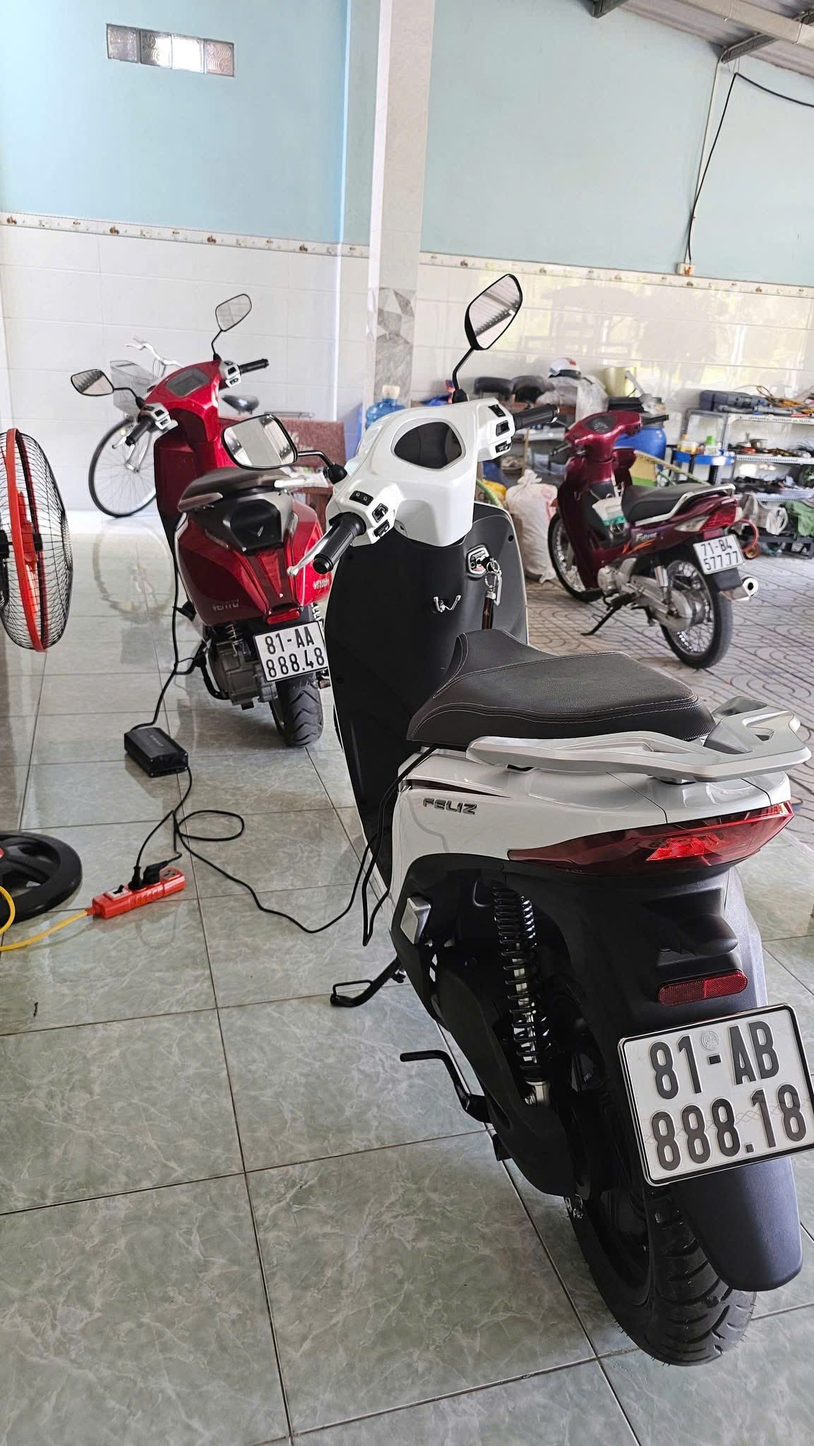Bien-so: (596, 974, 789, 1148), (236, 618, 307, 684), (665, 525, 710, 569)
